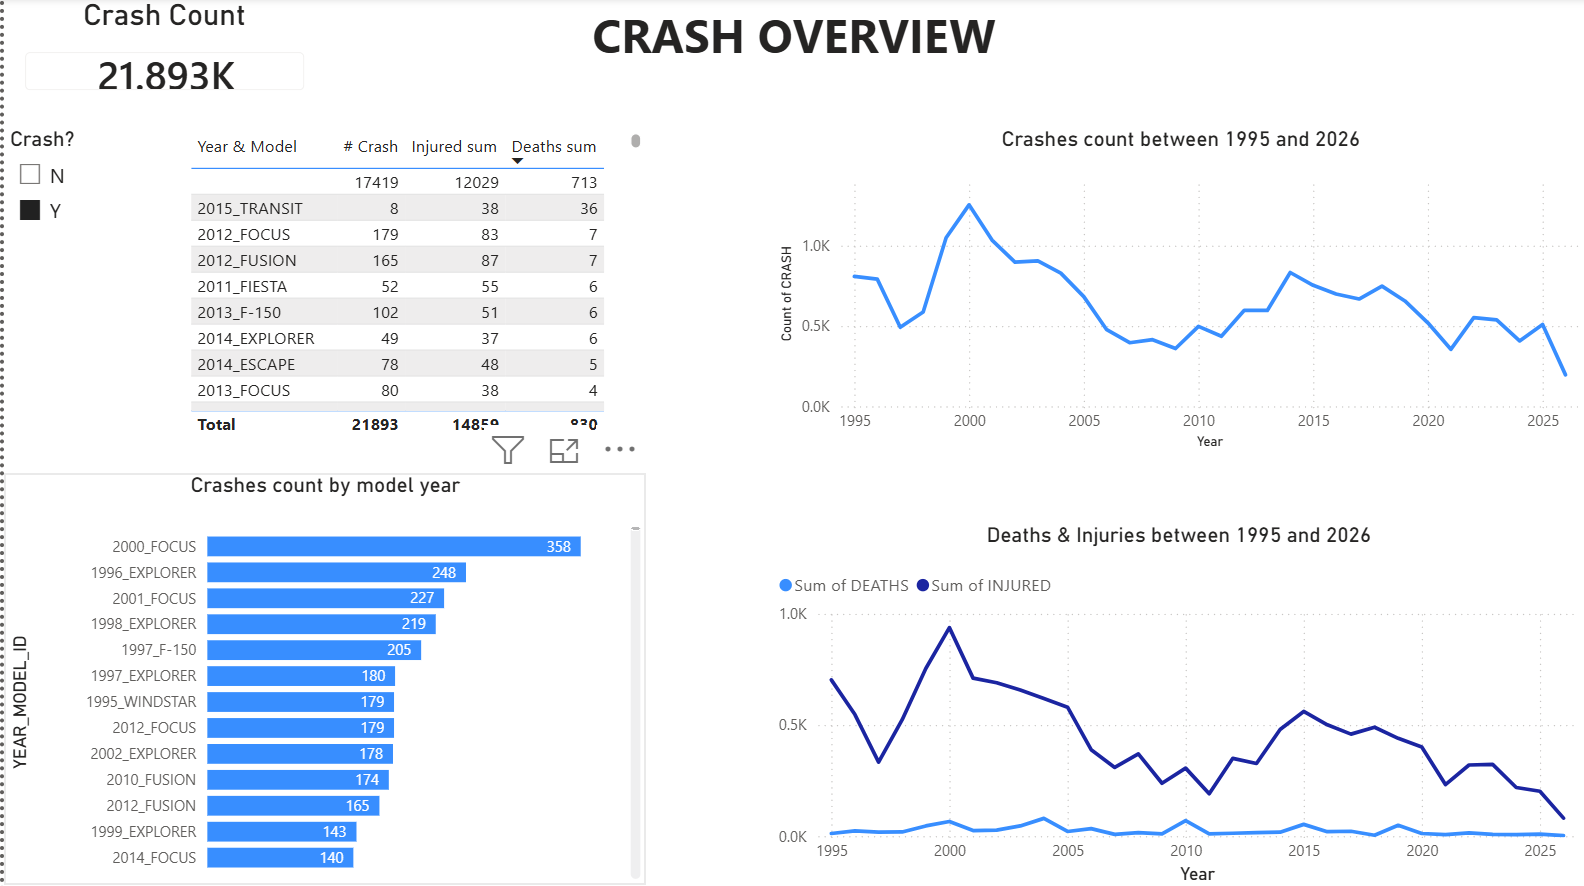

Layout of this report page (visuals, bound fields, positions):
{"tool":"powerbi","page":{"name":"Crash Overview","canvas":[1280,720],"ordinal":0},"visuals":[{"type":"tableEx","fields":{"Values":["Safercar_data_FORD.YEAR_MODEL_ID","FordExternalTable.CRASH","Sum(FordExternalTable.INJURED)","Sum(FordExternalTable.DEATHS)"]},"box":[145,105,375,255],"z":0},{"type":"slicer","title":"Crash?","fields":{"Values":["FordExternalTable.CRASH"]},"box":[0,105.2,145,93.3],"z":1000},{"type":"clusteredBarChart","title":"Crashes count by model year","fields":{"Category":["FordExternalTable.YEAR_MODEL_ID"],"Y":["CountNonNull(FordExternalTable.CRASH)"]},"box":[0,385,520,333.3],"z":2000},{"type":"textbox","box":[273.3,0,731.4,92.9],"z":3000},{"type":"lineChart","title":"Crashes count between 1995 and 2026","fields":{"Category":["FordExternalTable.FAILDATE.Variation.Date Hierarchy.Year","FordExternalTable.FAILDATE.Variation.Date Hierarchy.Quarter","FordExternalTable.FAILDATE.Variation.Date Hierarchy.Month","FordExternalTable.FAILDATE.Variation.Date Hierarchy.Day"],"Y":["CountNonNull(FordExternalTable.CRASH)"]},"box":[623.3,105,658.3,265],"z":4000},{"type":"lineChart","title":"Deaths & Injuries between 1995 and 2026","fields":{"Category":["FordExternalTable.FAILDATE.Variation.Date Hierarchy.Year","FordExternalTable.FAILDATE.Variation.Date Hierarchy.Quarter","FordExternalTable.FAILDATE.Variation.Date Hierarchy.Month","FordExternalTable.FAILDATE.Variation.Date Hierarchy.Day"],"Y":["Sum(FordExternalTable.DEATHS)","Sum(FordExternalTable.INJURED)"]},"box":[621.7,425,658.3,296.7],"z":5000},{"type":"cardVisual","title":"Crash Count","fields":{"Data":["CountNonNull(FordExternalTable.CRASH)"]},"box":[0,0,260.5,92.2],"z":6000}]}

Visuals, with their boxes in screenshot pixels (x1, y1, x2, y2), scaled from the page's 1280x720 canvas onto the 1584x886 screenshot:
tableEx - Safercar_data_FORD.YEAR_MODEL_ID x FordExternalTable.CRASH: <box>179,129,644,443</box>
"Crash?" slicer: <box>0,129,179,244</box>
"Crashes count by model year" clusteredBarChart: <box>0,474,644,884</box>
textbox: <box>338,0,1243,114</box>
"Crashes count between 1995 and 2026" lineChart: <box>771,129,1583,455</box>
"Deaths & Injuries between 1995 and 2026" lineChart: <box>769,523,1583,885</box>
"Crash Count" cardVisual: <box>0,0,322,113</box>
